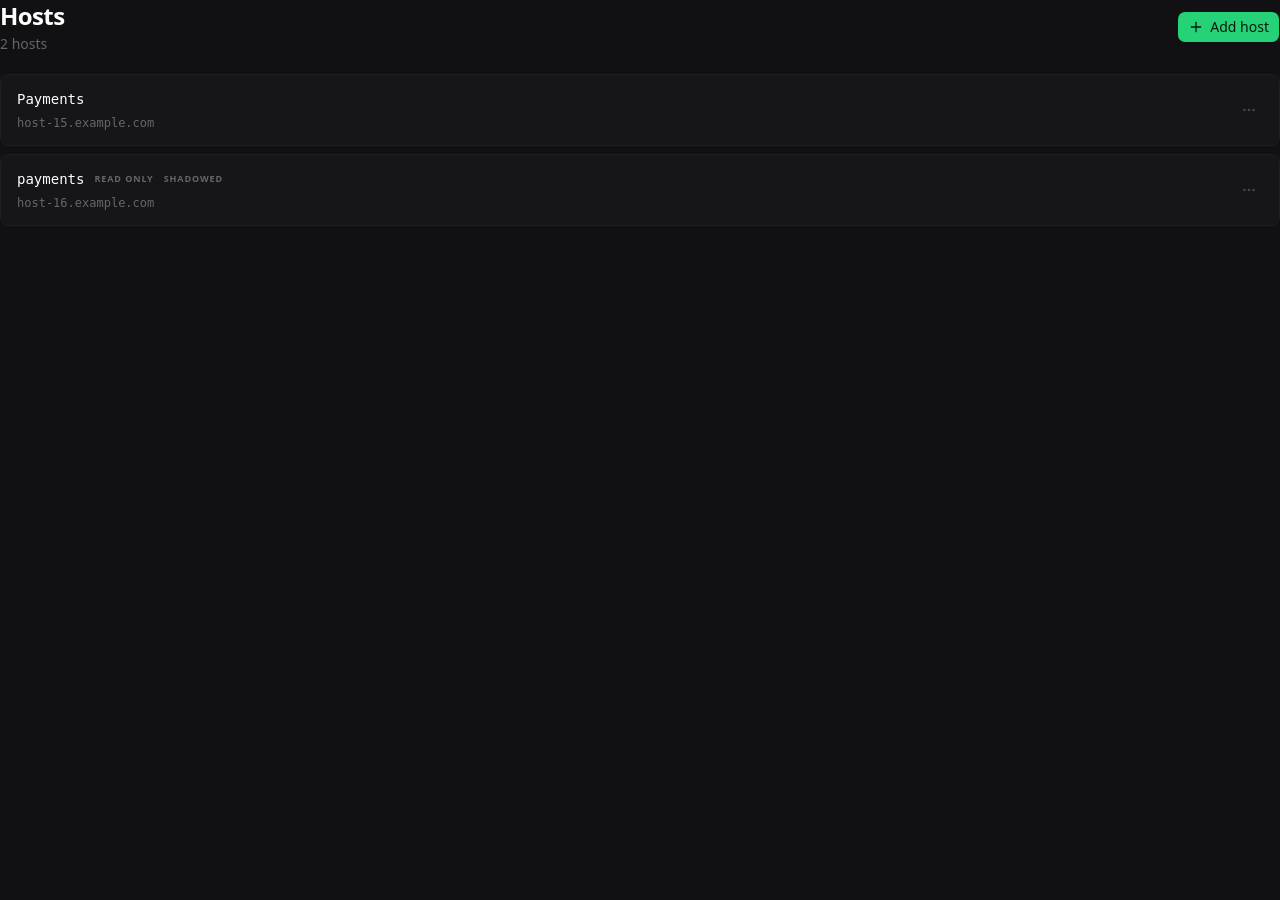
it: hosts page delete confirmation copy › says the file host takes over when deleting its ui override
Click the button named "Actions for Payments" at (1249, 110), box top-left (1235, 96), bottom-right (1263, 124)
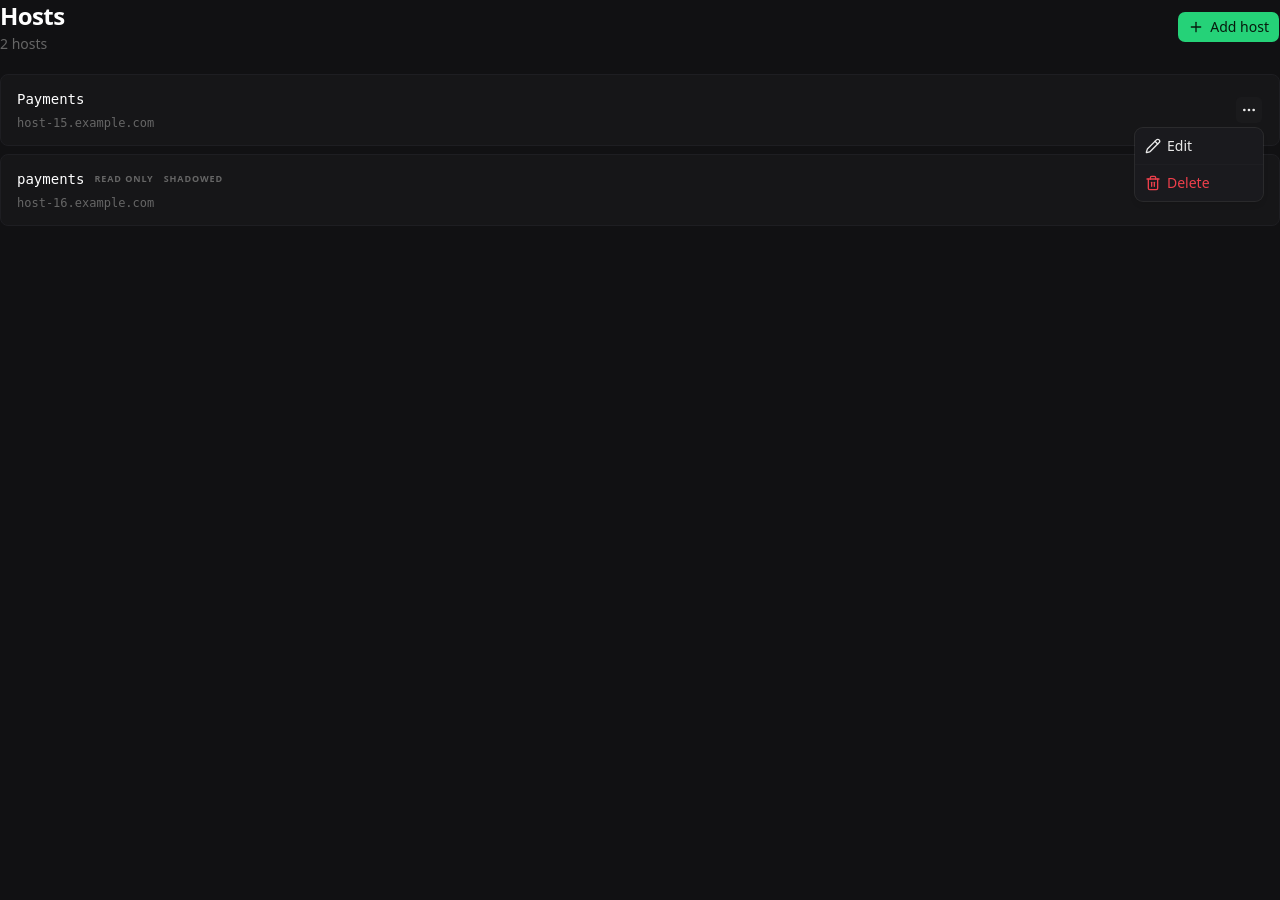
Click the menu item "Delete" at (1177, 182), box top-left (1145, 173), bottom-right (1210, 192)
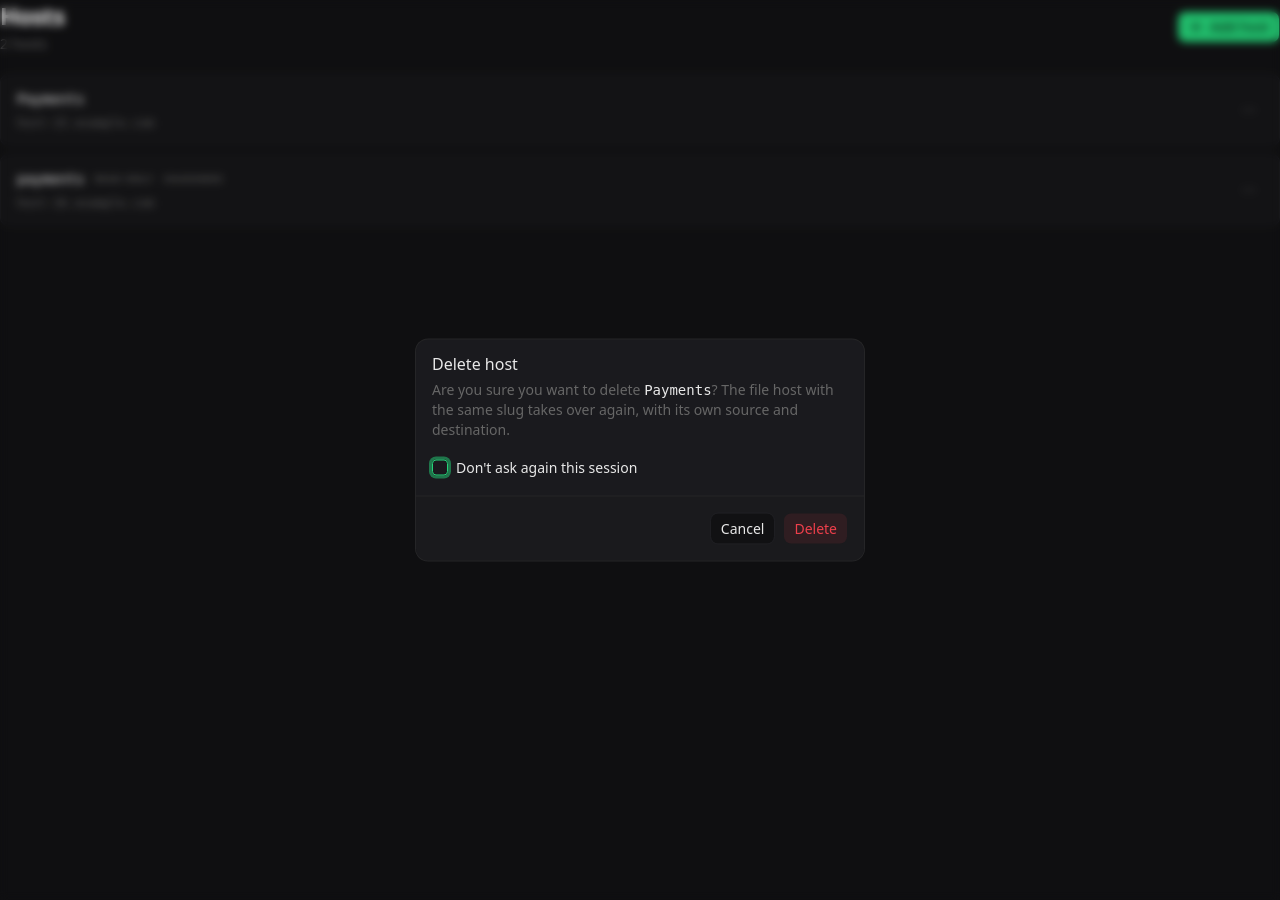
Check: the dialog does not show "no longer be scoped", box top-left (416, 340), bottom-right (864, 560)
Check: the dialog shows "The file host with the same slug takes over again, with its own source and destination.", box top-left (432, 380), bottom-right (834, 438)
